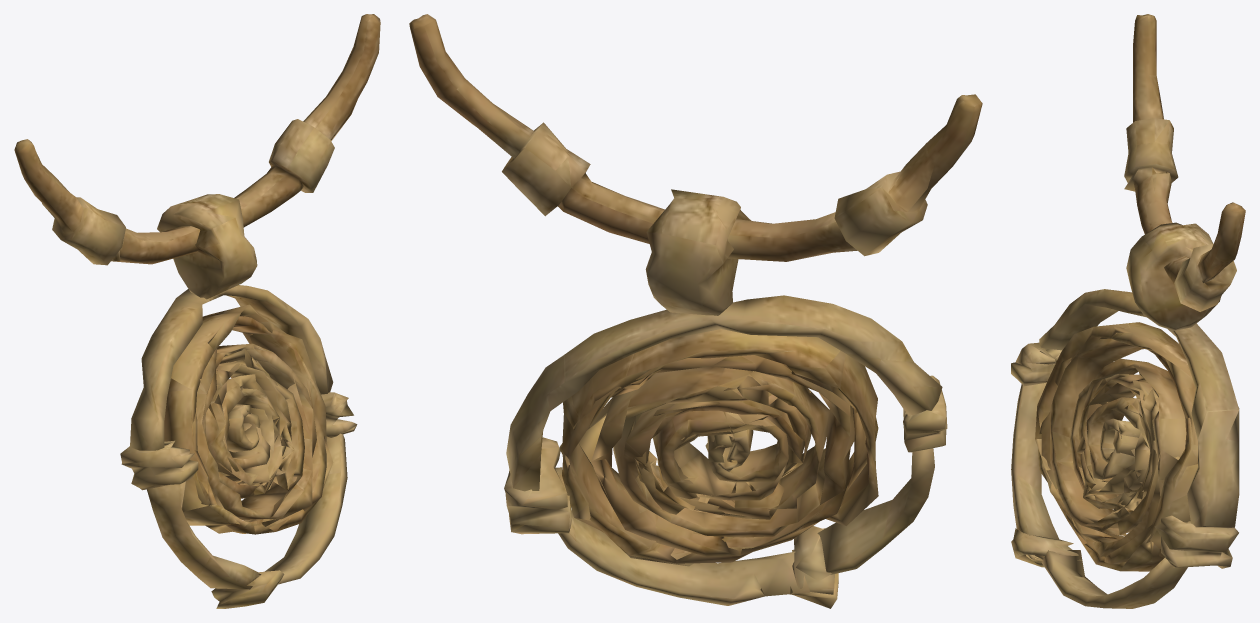
The model's file is acc_spring_necklace.glb.
3 renders of one model, left to right at view 1: azimuth 30°, elevation 25°; view 2: azimuth 150°, elevation 25°; view 3: azimuth 270°, elevation 25°, orthographic. The views are drawn at different scales.
Bounding box in the file's own units: 0.1064 × 0.1191 × 0.0527.
1 material, 1 textured.
